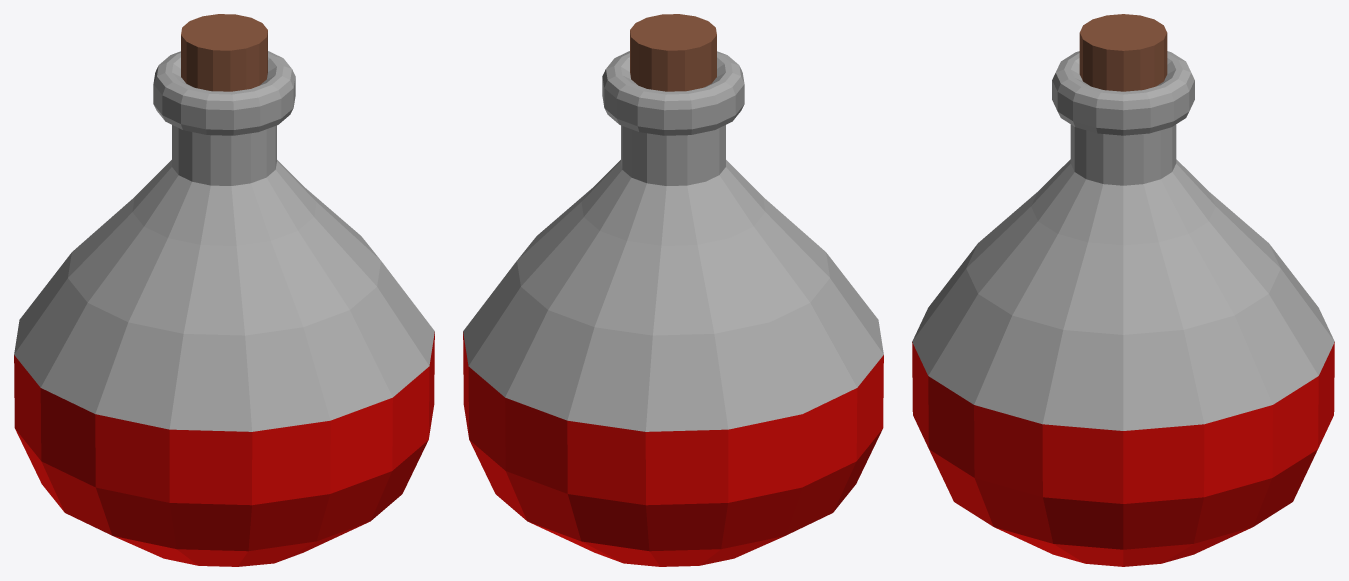
The model's file is Potion.fbx.
3 views of the same model, side by side, from view 1: azimuth 30°, elevation 25°; view 2: azimuth 150°, elevation 25°; view 3: azimuth 270°, elevation 25° (orthographic).
Parts seen in each view (by area): view 1: Sphere; view 2: Sphere; view 3: Sphere.
Part boxes in pixels (x1=…): Sphere: x1=14, y1=14, x2=434, y2=566; Sphere: x1=463, y1=14, x2=883, y2=566; Sphere: x1=912, y1=14, x2=1334, y2=566.
Size of the model in its own units: 200 by 257 by 200.
